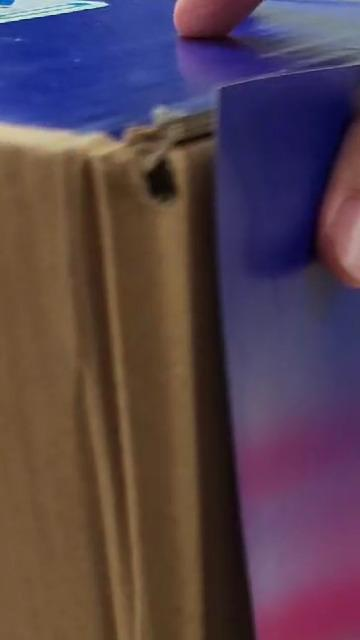B_R1: (322, 313, 360, 640)
